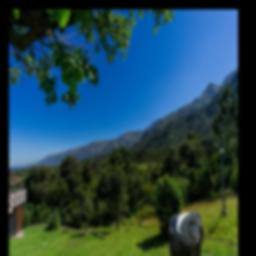Crow: (168, 212, 203, 256)
